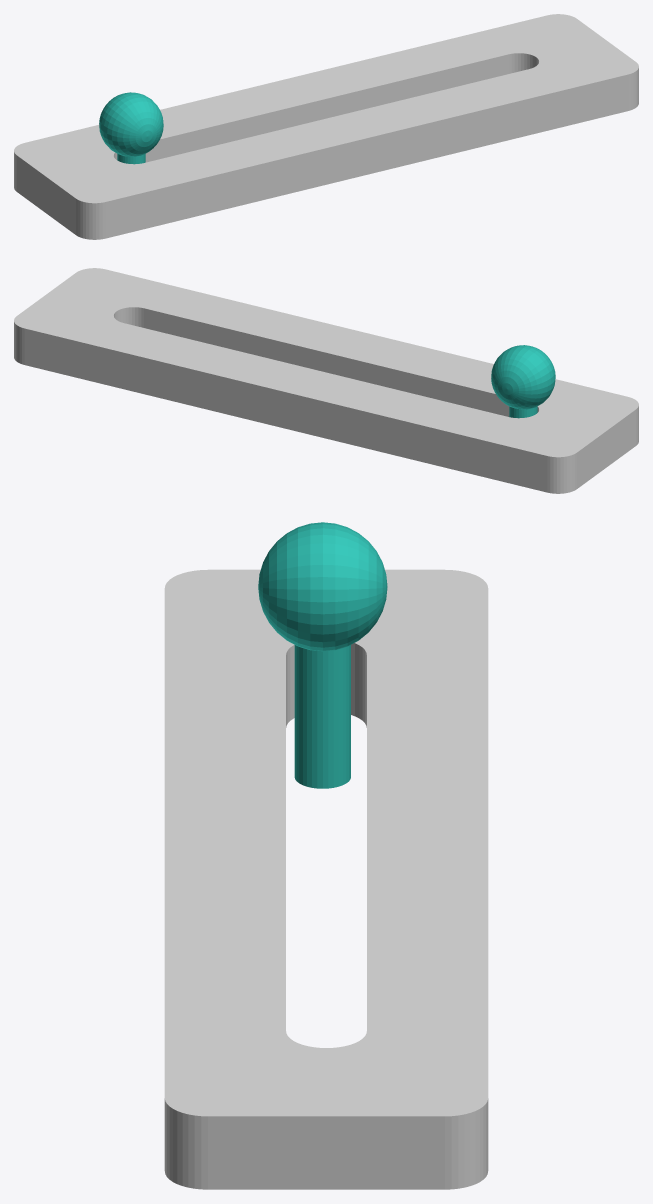
Rendered from slider_new.fbx.
The picture shows the model from 3 angles, top to bottom: view 1: azimuth 30°, elevation 25°; view 2: azimuth 150°, elevation 25°; view 3: azimuth 270°, elevation 25°; orthographic projection. The views are drawn at different scales.
Visible parts, largest first — view 1: sliderplane.002, Sphere.003; view 2: sliderplane.002, Sphere.003; view 3: sliderplane.002, Sphere.003.
Part boxes in pixels (x1,y1,x2,y2): sliderplane.002: (14, 14, 638, 239); Sphere.003: (99, 92, 163, 164); sliderplane.002: (14, 268, 638, 493); Sphere.003: (491, 345, 555, 418); sliderplane.002: (164, 569, 488, 1189); Sphere.003: (258, 522, 387, 788).
Size of the model in its own units: 1600 by 339 by 400.
